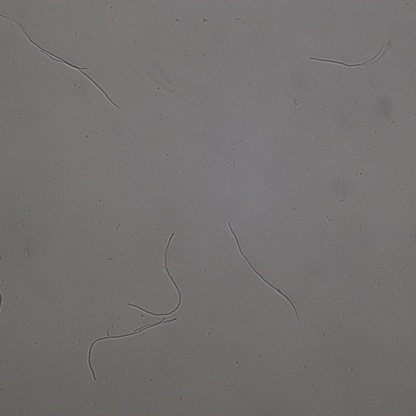Sensitive: (227, 221, 298, 319), (87, 318, 177, 380), (1, 14, 86, 69), (128, 233, 182, 317), (43, 51, 119, 107), (310, 39, 388, 69)
